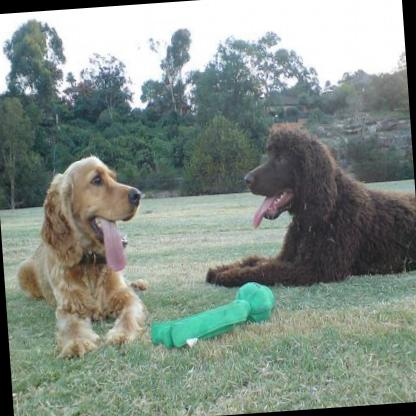Irish_water_spaniel: (193, 111, 416, 293)
